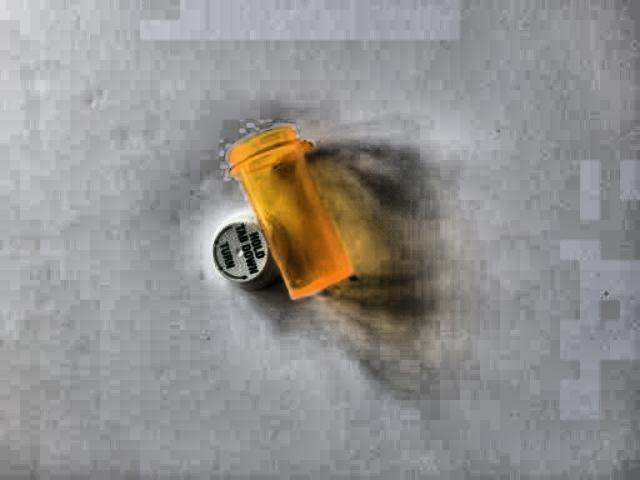Plastic: (188, 114, 370, 311)
